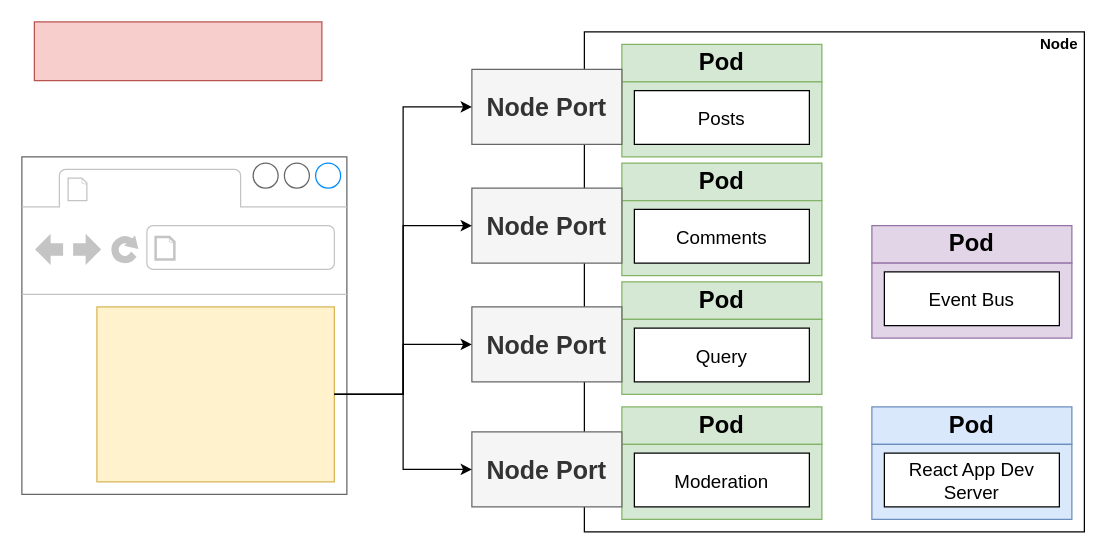
Image size: 1106x554. Some labels were removed from this diagram. Here are the shapes that lost their labels. From the top down, the centre of each, then its label:
At pixel 177 51: "Option #1 - Probably not good".
At pixel 165 187: "Page 1".
At pixel 215 394: "React App running in browser".
